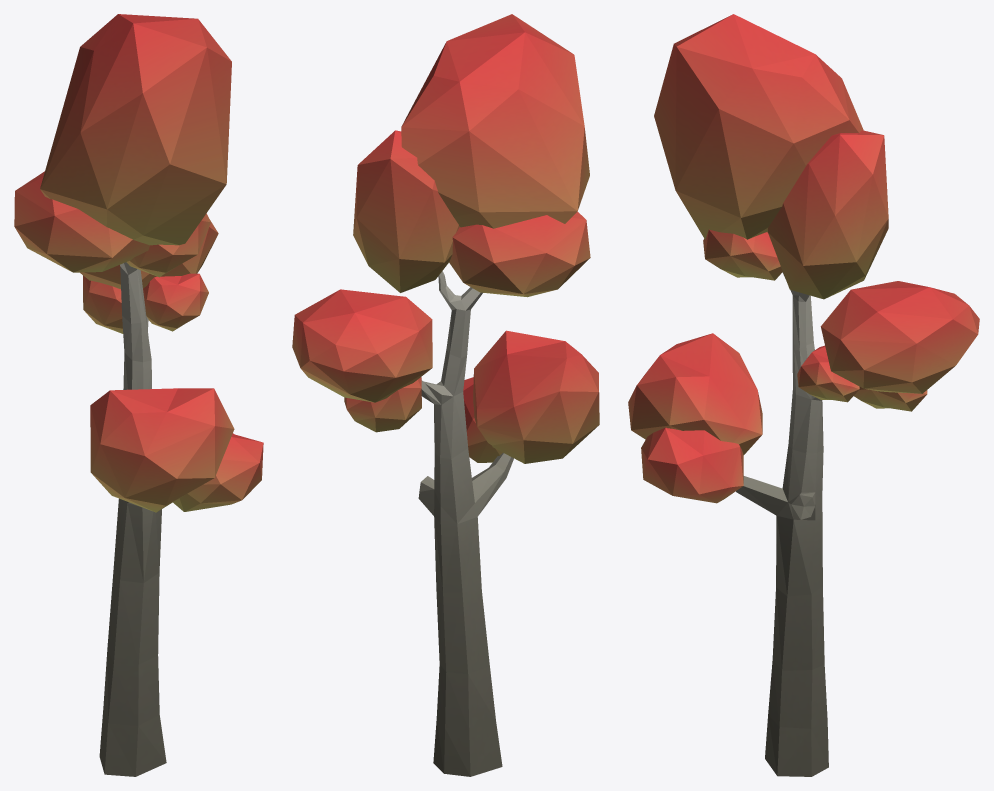
The model's file is ZLP_Plant_E_6.FBX.
3 renders of one model, left to right at view 1: azimuth 30°, elevation 25°; view 2: azimuth 150°, elevation 25°; view 3: azimuth 270°, elevation 25°, orthographic. The views are drawn at different scales.
Visible parts, largest first — view 1: ZLP_Plant_E_6; view 2: ZLP_Plant_E_6; view 3: ZLP_Plant_E_6.
Boxes of the visible parts, x1=… form: ZLP_Plant_E_6: x1=14, y1=14, x2=263, y2=776; ZLP_Plant_E_6: x1=292, y1=14, x2=599, y2=776; ZLP_Plant_E_6: x1=628, y1=14, x2=979, y2=776.
Size of the model in its own units: 240 by 727 by 315.
